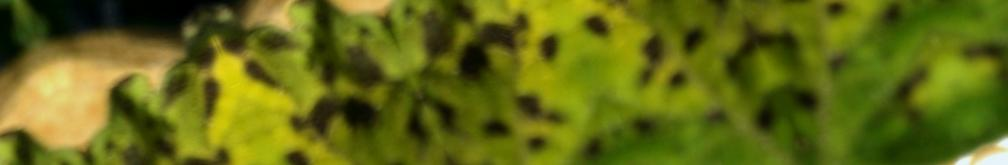Tomato Septoria leaf spot: (342, 0, 701, 165)
